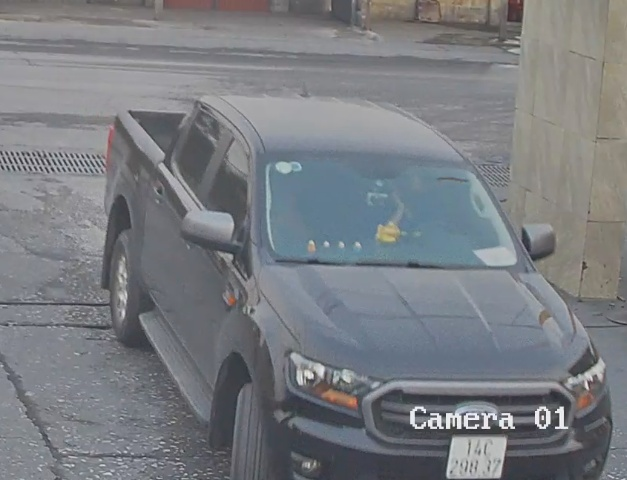vehicle plate: (447, 429, 505, 480)
